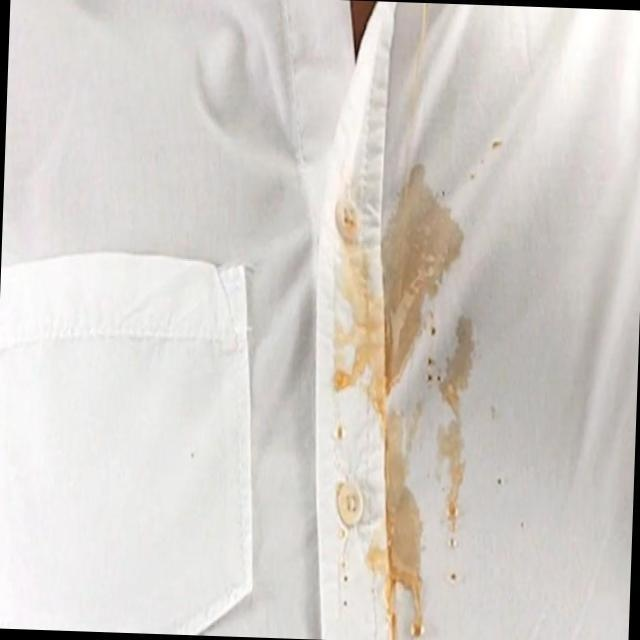coffee: (349, 172, 452, 376), (371, 421, 417, 621), (432, 419, 470, 537), (438, 316, 476, 410)
